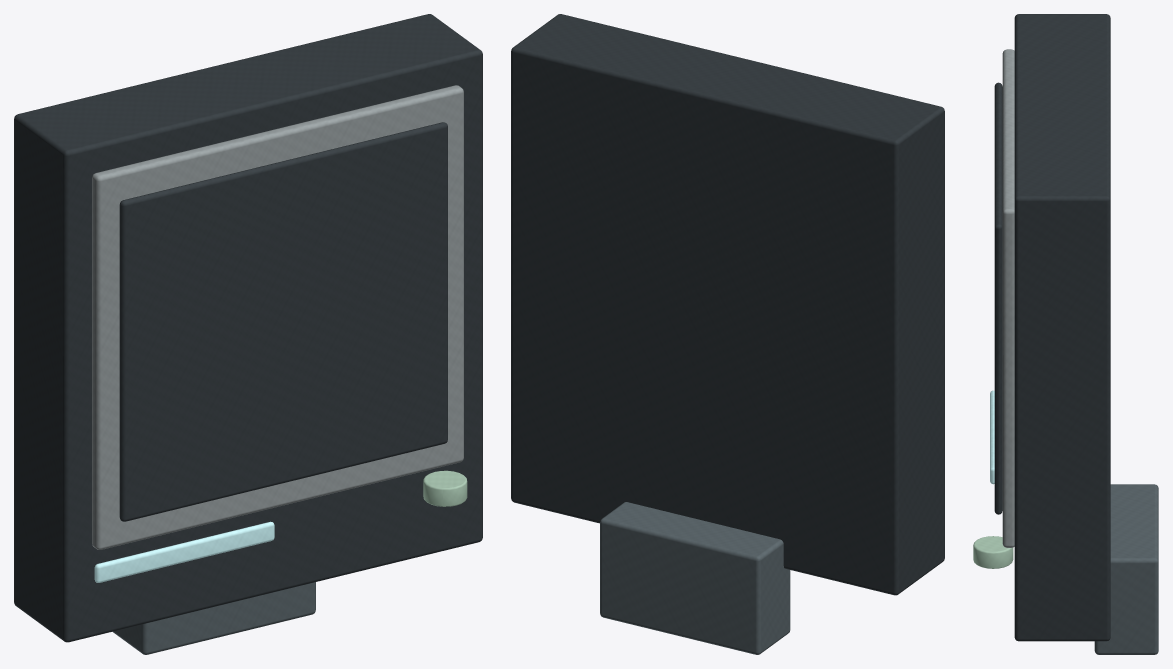
File: WallMonitor.glb
The picture shows the model from 3 angles, left to right: view 1: azimuth 30°, elevation 25°; view 2: azimuth 150°, elevation 25°; view 3: azimuth 270°, elevation 25°; orthographic projection. The views are drawn at different scales.
Visible parts, largest first — view 1: WallMonitor_Mesh; view 2: WallMonitor_Mesh; view 3: WallMonitor_Mesh.
Boxes of the visible parts, left/top/right/bottom form: WallMonitor_Mesh: left=14, top=14, right=482, bottom=654; WallMonitor_Mesh: left=511, top=14, right=944, bottom=654; WallMonitor_Mesh: left=973, top=14, right=1158, bottom=654.
Size of the model in its own units: 0.82 by 1.06 by 0.3475.
Materials: 5 (5 with a texture image).
